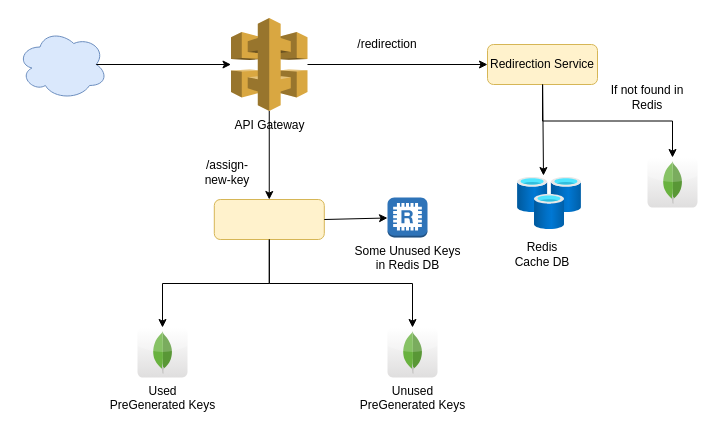
The diagram is 715 pixels wide and 430 high, and some of its shapes have lost their labels. Here are the shapes that lost their labels. From the top down, the centre of each, then its label:
(x=62, y=64): Client
(x=672, y=182): URLs DB
(x=268, y=219): Key Generation Service
